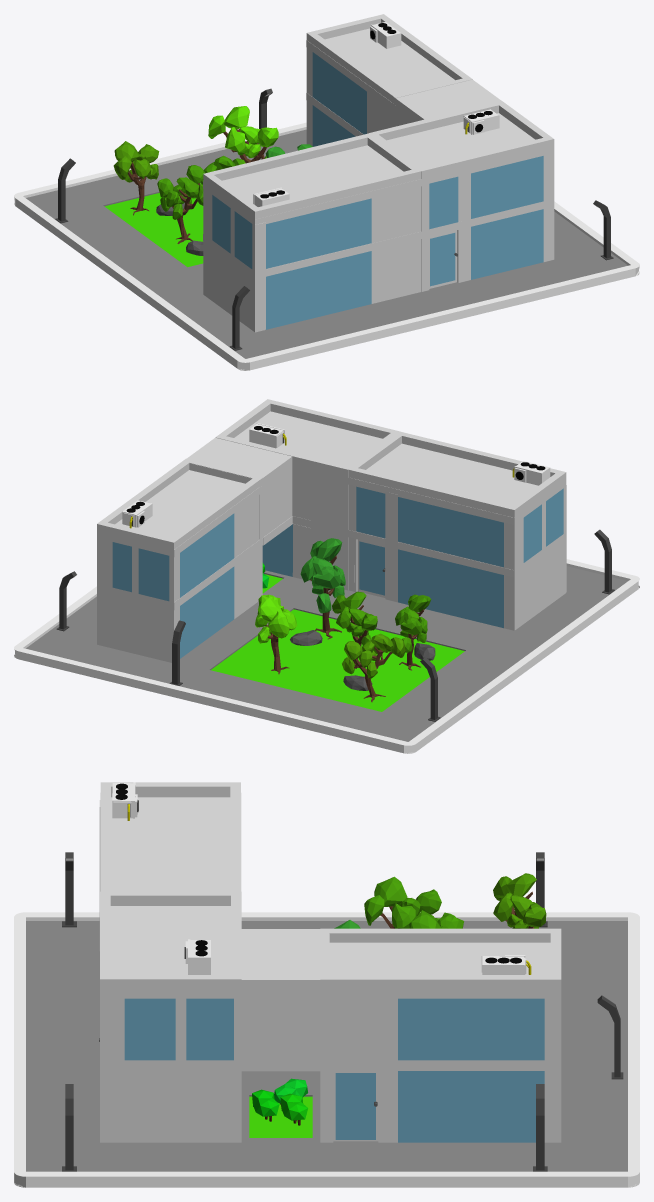
File: quartier moderne low poly.fbx
The picture shows the model from 3 angles, top to bottom: view 1: azimuth 30°, elevation 25°; view 2: azimuth 150°, elevation 25°; view 3: azimuth 270°, elevation 25°; orthographic projection. The views are drawn at different scales.
Parts seen in each view (by area): view 1: Cube.008, Cube.001, Cube.007, Cube.038, Cube.020, Cube.002, Cube.039, Cube.004, Cube, Cube.255, t1-yellow.001, t1-yellow.007 (+11 smaller); view 2: Cube.001, Cube.008, Cube.020, Cube, Cube.038, Cube.007, Cube.003, Cube.255, Cube.039, Cube.004, t1-yellow.003, t1-yellow.007 (+16 smaller); view 3: Cube.001, Cube.020, Cube.007, Cube.038, Cube.005, Cube.255, Cube.039, Cube.256, Cube.008, Cube.002, Cube.003, Cube.004 (+13 smaller).
Boxes of the visible parts, x1,y1,x2,y2 form: Cube.008: (203,133,420,332); Cube.001: (26,129,627,358); Cube.007: (369,100,554,291); Cube.038: (203,113,534,224); Cube.020: (306,14,472,146); Cube.002: (246,265,635,370); Cube.039: (306,28,454,112); Cube.004: (15,196,244,368); Cube: (104,183,203,267); Cube.255: (392,79,501,127); t1-yellow.001: (208,106,278,163); t1-yellow.007: (113,141,159,215); Cube.001: (26,566,627,741); Cube.008: (348,431,566,630); Cube.020: (97,459,262,662); Cube: (211,574,464,711); Cube.038: (234,411,538,524); Cube.007: (215,399,399,590); Cube.003: (18,648,407,753); Cube.255: (186,437,292,539); Cube.039: (115,470,263,556); Cube.004: (409,579,638,751); t1-yellow.003: (300,538,345,639); t1-yellow.007: (342,633,405,702); Cube.001: (26,921,627,1171); Cube.020: (320,928,561,1142); Cube.007: (100,891,241,1142); Cube.038: (100,793,241,974); Cube.005: (26,1171,627,1187); Cube.255: (240,929,329,1060); Cube.039: (329,942,550,974); Cube.256: (292,997,388,1062); Cube.008: (100,782,240,891); Cube.002: (14,917,25,1182); Cube.003: (628,917,639,1171); Cube.004: (26,912,627,920).
Bounding box in the file's own units: 1040 × 327 × 1040.
